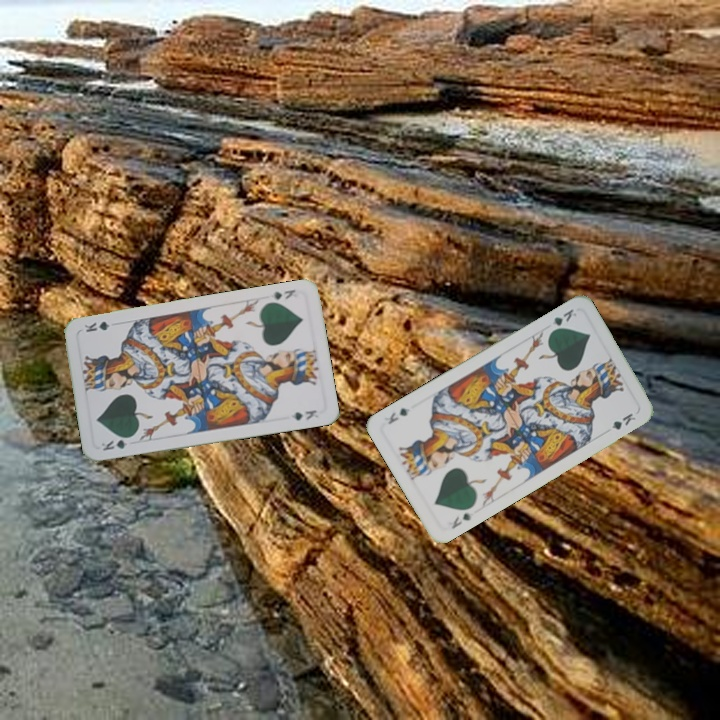GK: (545, 305, 579, 336), (97, 432, 136, 453), (447, 508, 474, 531), (266, 285, 298, 302)
